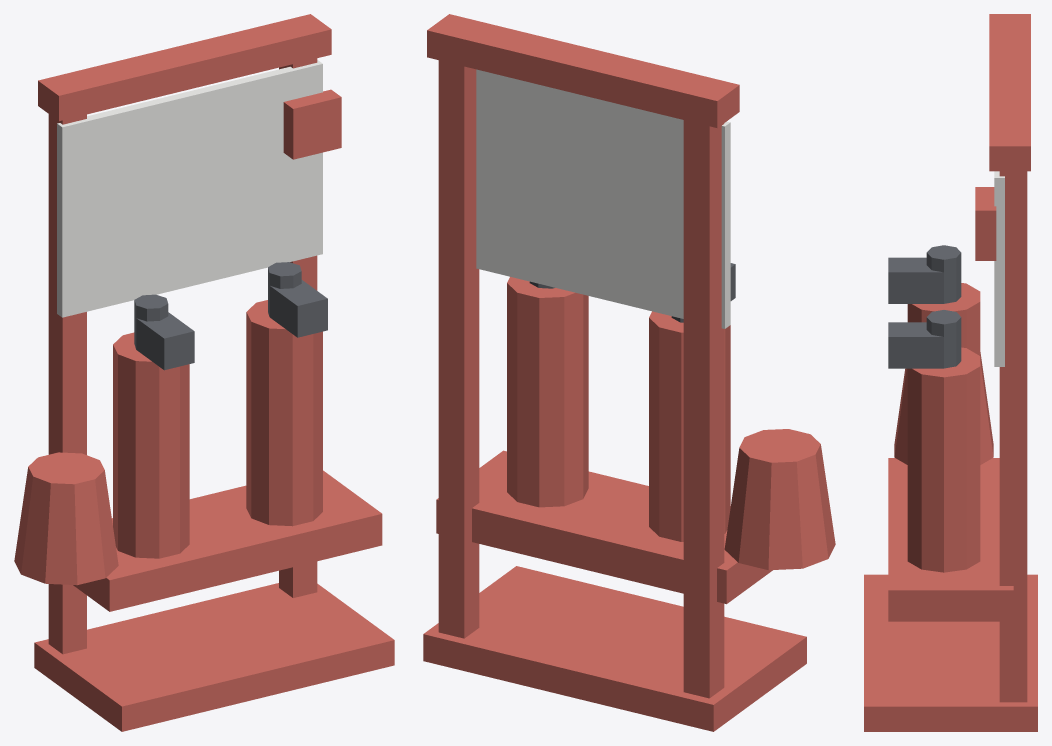
File: shipyard-and-dry-dock-shipyard-and-dry-dock-fire-point-5e4e2306__37965.glb
3 renders of one model, left to right at view 1: azimuth 30°, elevation 25°; view 2: azimuth 150°, elevation 25°; view 3: azimuth 270°, elevation 25°, orthographic. The views are drawn at different scales.
Visible parts, largest first — view 1: shipyard-and-dry-dock-fire-point; view 2: shipyard-and-dry-dock-fire-point; view 3: shipyard-and-dry-dock-fire-point.
Part boxes in pixels (left/top/right/bottom): shipyard-and-dry-dock-fire-point: left=14, top=14, right=394, bottom=731; shipyard-and-dry-dock-fire-point: left=423, top=14, right=835, bottom=731; shipyard-and-dry-dock-fire-point: left=864, top=14, right=1037, bottom=731.
Bounding box in the file's own units: 1.11 × 1.86 × 0.5.
